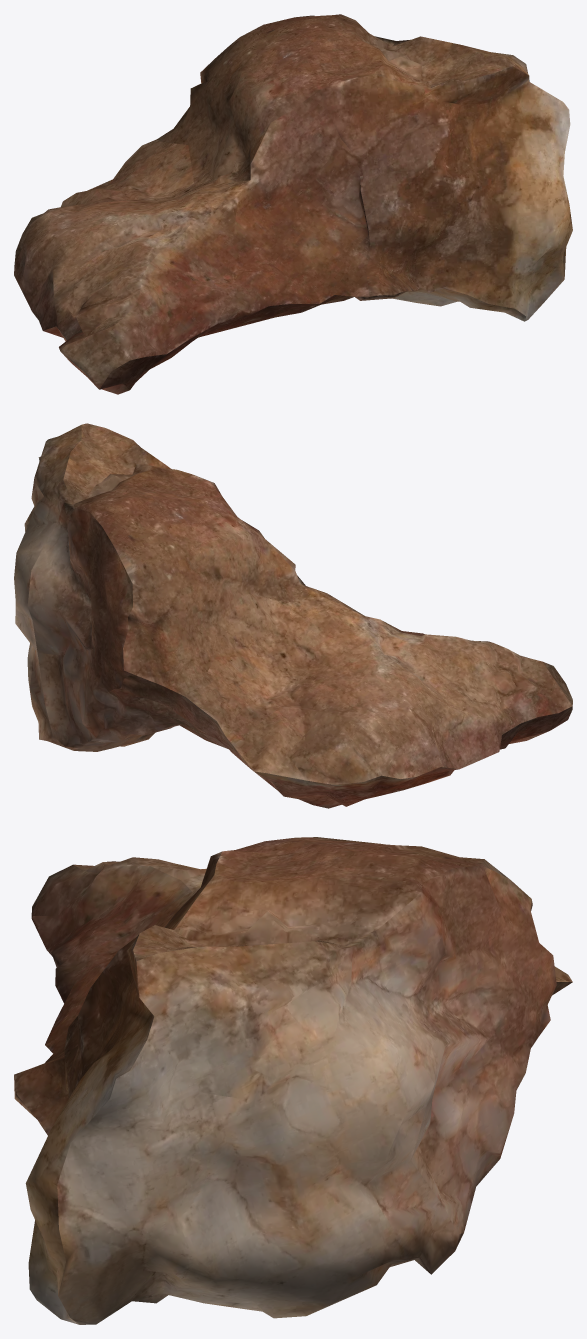
Rendered from stone.glb.
The picture shows the model from 3 angles, top to bottom: view 1: azimuth 30°, elevation 25°; view 2: azimuth 150°, elevation 25°; view 3: azimuth 270°, elevation 25°; orthographic projection. The views are drawn at different scales.
Parts seen in each view (by area): view 1: stone_01; view 2: stone_01; view 3: stone_01.
Part boxes in pixels (left/top/right/bottom): stone_01: left=14, top=14, right=572, bottom=394; stone_01: left=14, top=423, right=572, bottom=808; stone_01: left=14, top=837, right=572, bottom=1324.
Size of the model in its own units: 0.1463 by 0.0714 by 0.089.
1 material, 1 textured.
